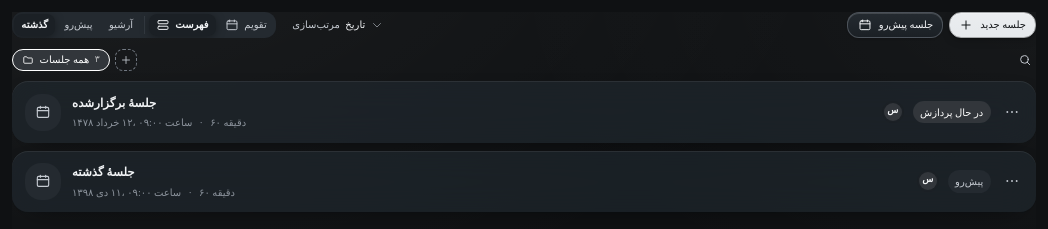
Test case: Meetings › opens on «گذشته», and «پیش‌رو» is its exact complement
Check: the text "جلسهٔ گذشته" is shown, box left=72, top=165, right=135, bottom=179
Check: the text "جلسهٔ برگزارشده" is shown, box left=72, top=96, right=156, bottom=110
What coordinates should you click on to do the following:
click the tab "پیش‌رو"
I would click on:
 (78, 25)
Its box is left=57, top=14, right=100, bottom=36.
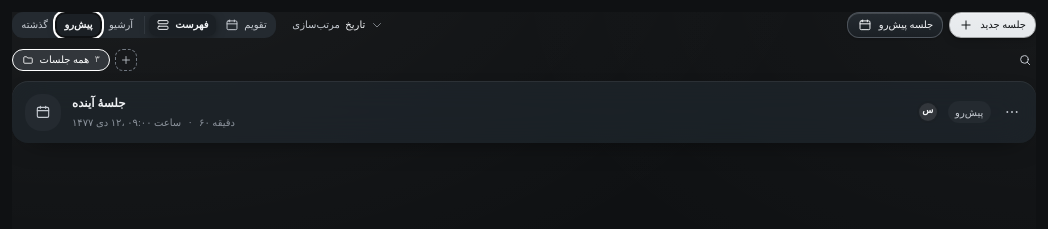
Check: the text "جلسهٔ آینده" is shown, box left=72, top=96, right=126, bottom=110
Check: the button "جلسهٔ گذشته" is gone
Check: the button "جلسهٔ برگزارشده" is gone
